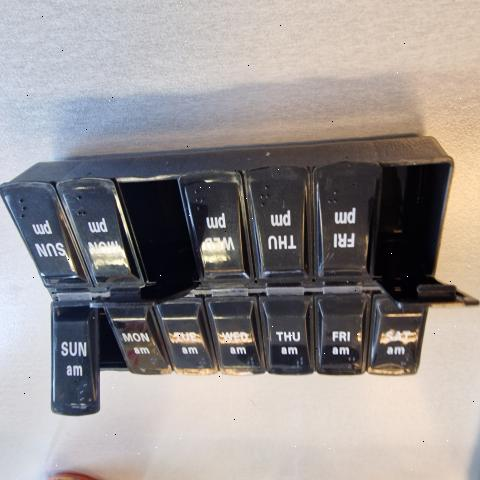Open: (371, 162, 478, 307), (92, 179, 194, 306), (94, 306, 126, 410)
